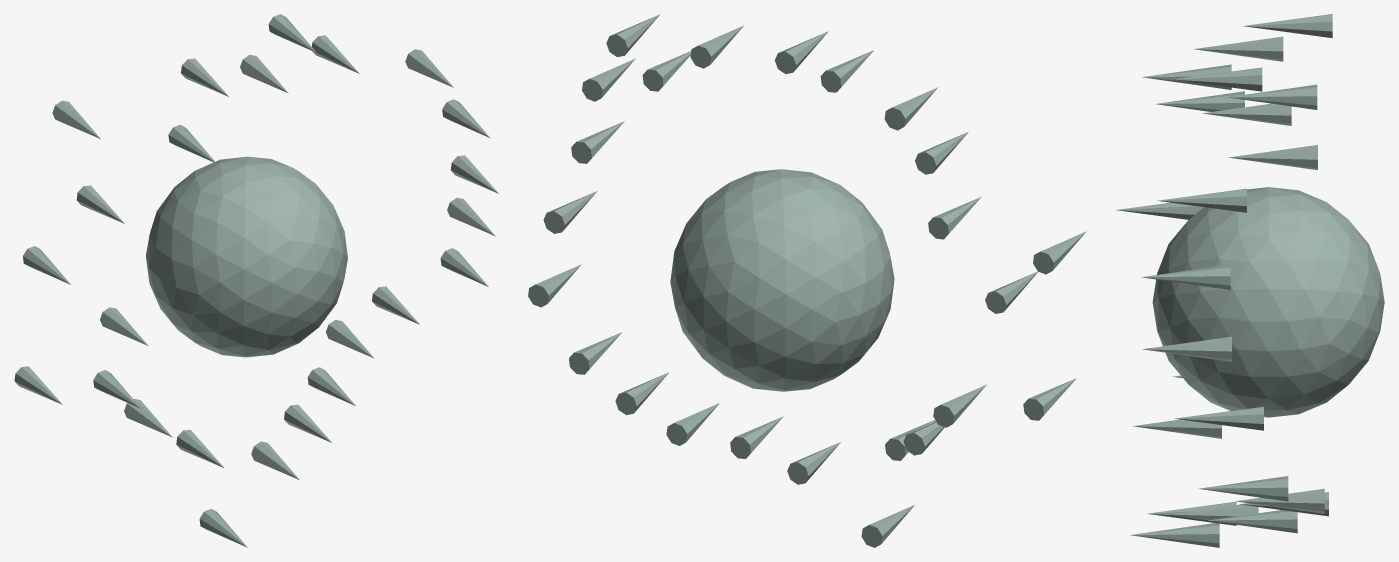
Rendered from tech_122.glb.
The picture shows the model from 3 angles, left to right: view 1: azimuth 30°, elevation 25°; view 2: azimuth 150°, elevation 25°; view 3: azimuth 270°, elevation 25°; orthographic projection. The views are drawn at different scales.
Parts seen in each view (by area): view 1: world; view 2: world; view 3: world.
Part boxes in pixels (bbox=[...]): world: bbox=[14, 14, 498, 547]; world: bbox=[528, 14, 1086, 547]; world: bbox=[1116, 14, 1384, 547].
Bounding box in the file's own units: 2.34 × 2.24 × 1.04.
